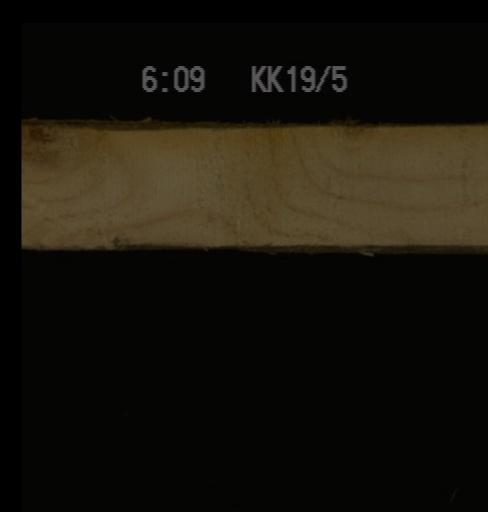edge_knot: (329, 121, 377, 153), (21, 121, 61, 151)
